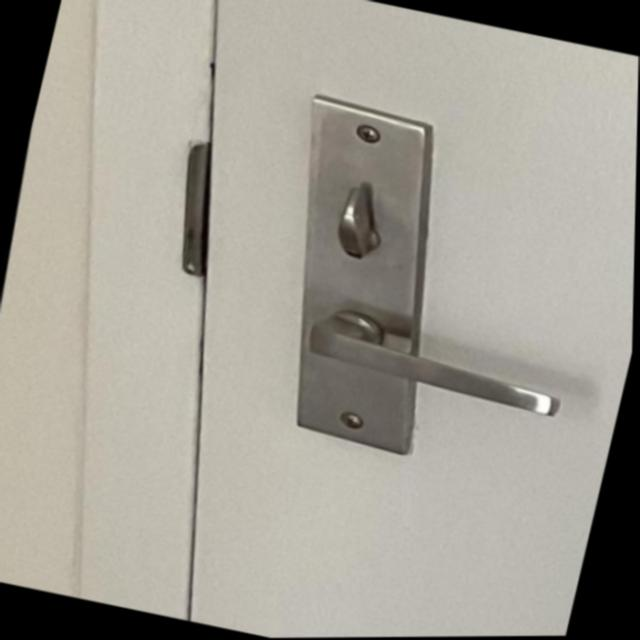door_handle: (256, 276, 601, 444)
